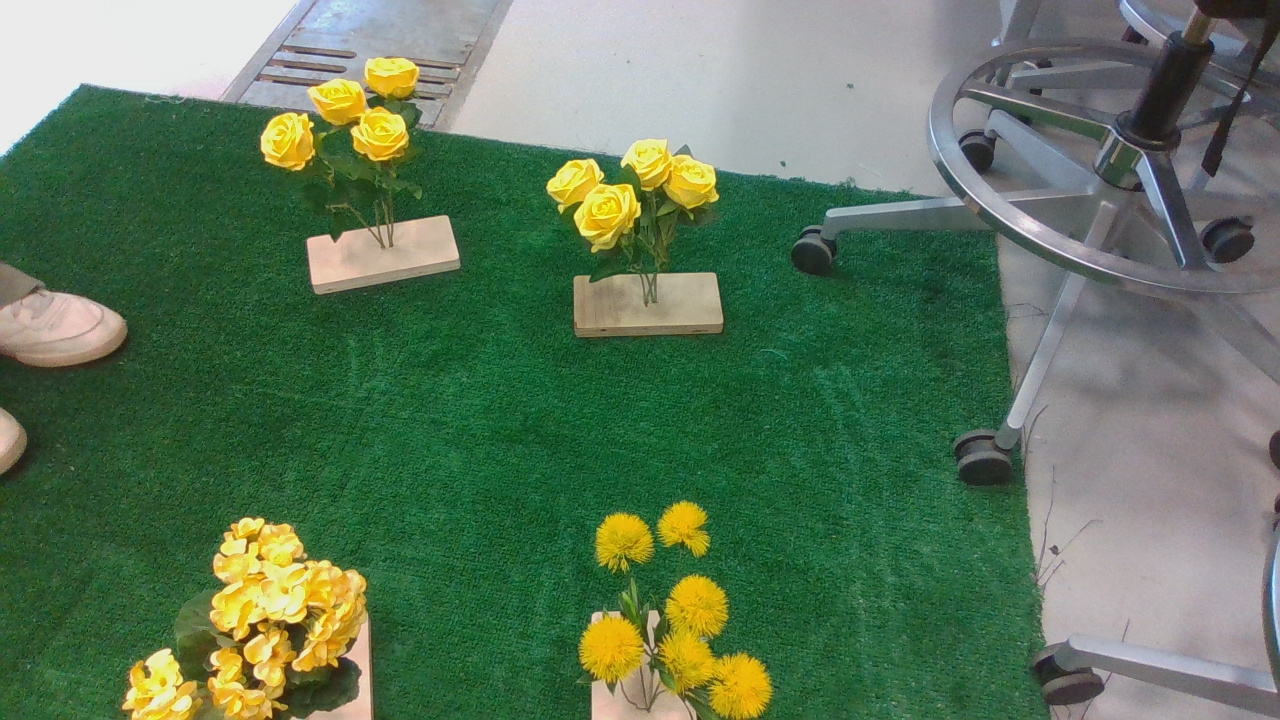dandelion: (568, 505, 791, 720)
geranium: (122, 517, 390, 720)
rose: (259, 58, 429, 232), (545, 143, 729, 266)
